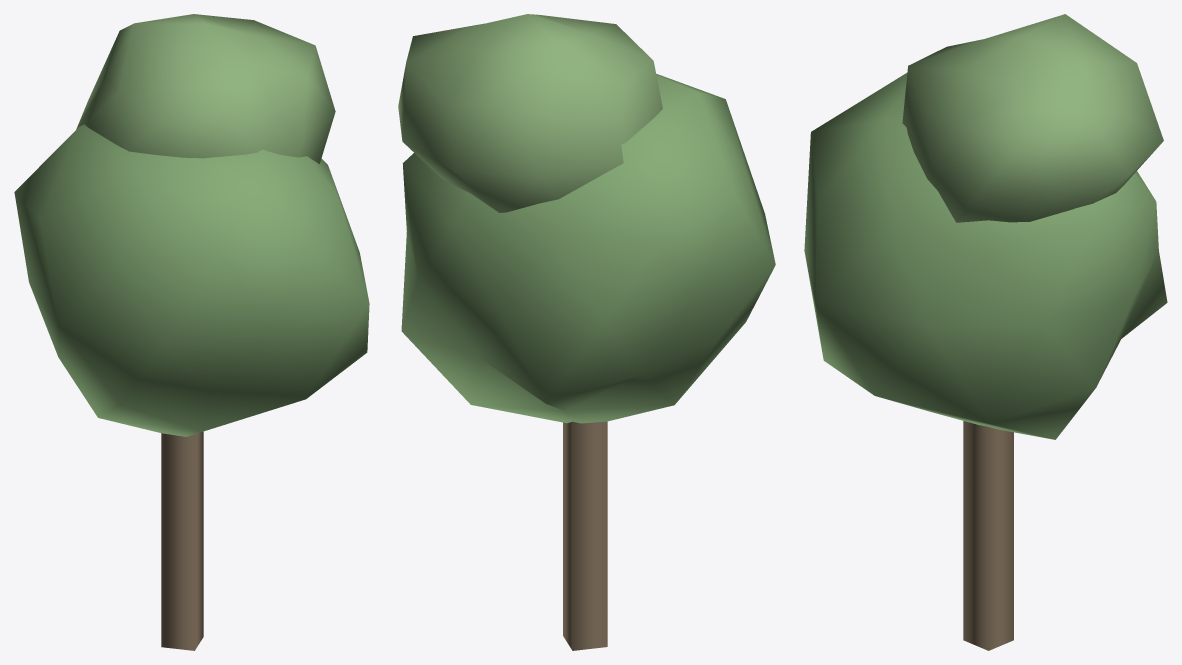
File: pohon_jauh.glb
3 views of the same model, side by side, from view 1: azimuth 30°, elevation 25°; view 2: azimuth 150°, elevation 25°; view 3: azimuth 270°, elevation 25° (orthographic). The views are drawn at different scales.
Parts seen in each view (by area): view 1: main; view 2: main; view 3: main.
Part boxes in pixels (x1=…): main: x1=14, y1=14, x2=369, y2=650; main: x1=398, y1=14, x2=775, y2=650; main: x1=804, y1=14, x2=1167, y2=650.
Size of the model in its own units: 1.16 by 2.16 by 1.14.
